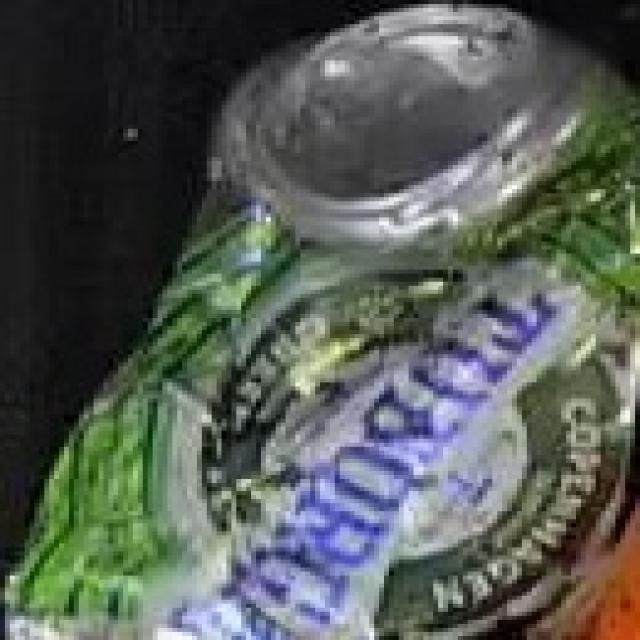can: (9, 0, 640, 640)
